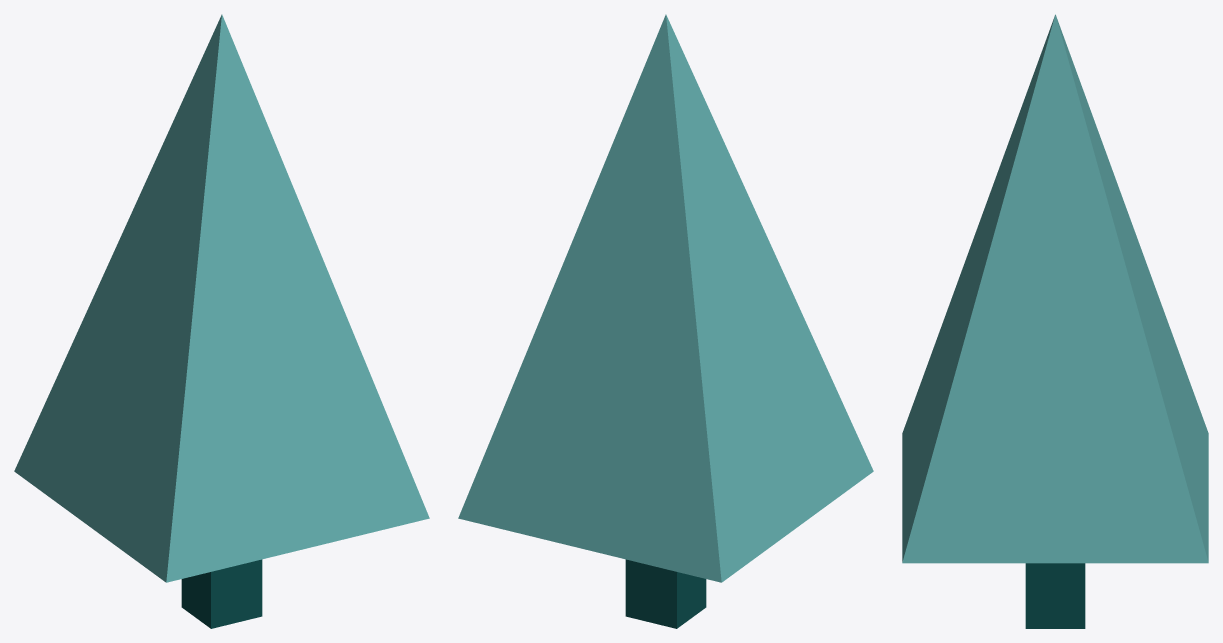
Rendered from 053 Xmas_Tree.fbx.
3 renders of one model, left to right at view 1: azimuth 30°, elevation 25°; view 2: azimuth 150°, elevation 25°; view 3: azimuth 270°, elevation 25°, orthographic.
Parts seen in each view (by area): view 1: Lowpoly_Christmas_Pack_053:pCube1; view 2: Lowpoly_Christmas_Pack_053:pCube1; view 3: Lowpoly_Christmas_Pack_053:pCube1.
Boxes of the visible parts, x1=… form: Lowpoly_Christmas_Pack_053:pCube1: x1=14, y1=14, x2=429, y2=628; Lowpoly_Christmas_Pack_053:pCube1: x1=458, y1=14, x2=873, y2=628; Lowpoly_Christmas_Pack_053:pCube1: x1=902, y1=14, x2=1208, y2=628.
Size of the model in its own units: 1 by 2.17 by 1.
